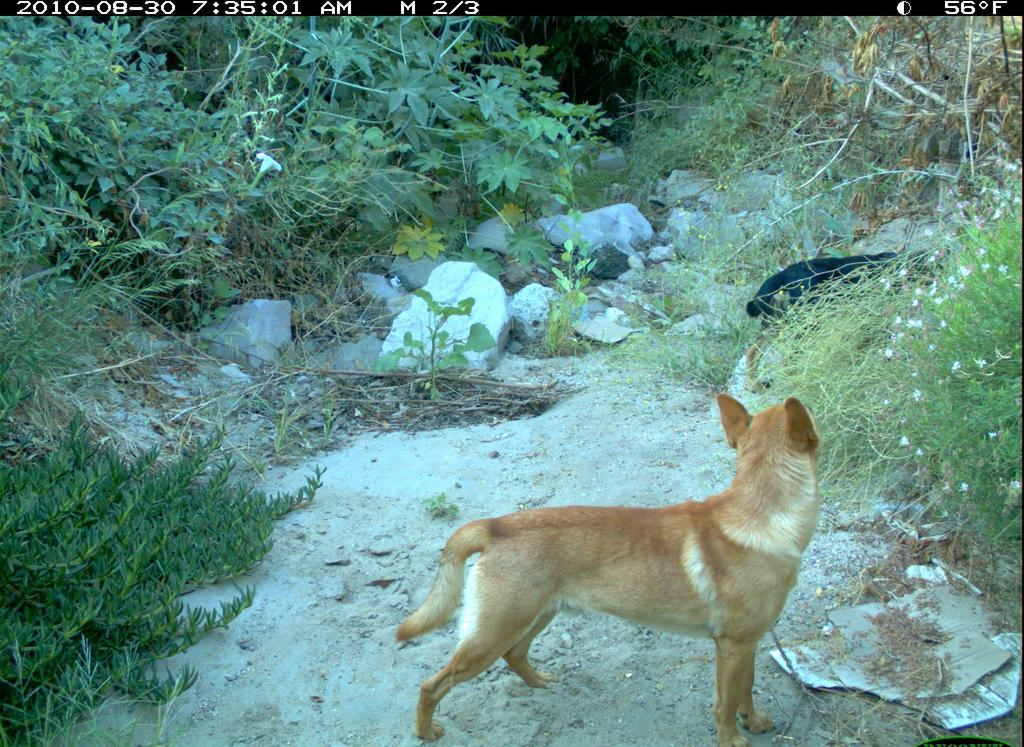dog: (381, 379, 853, 747)
